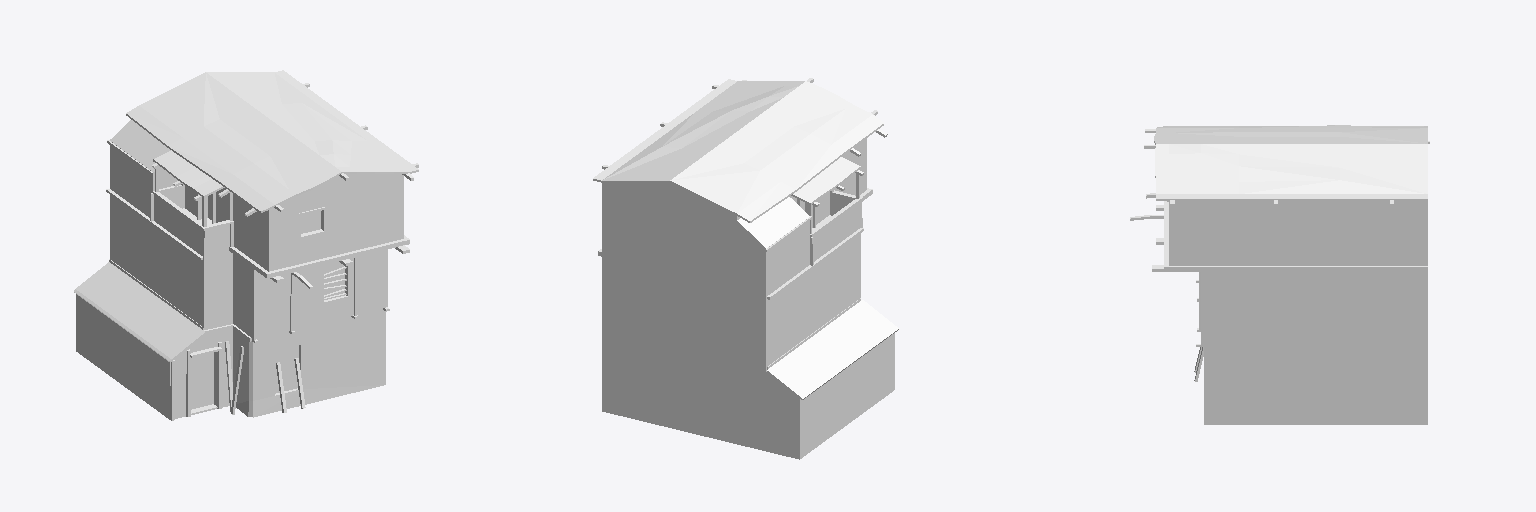
File: BuildingJ.obj
3 views of the same model, side by side, from view 1: azimuth 30°, elevation 25°; view 2: azimuth 150°, elevation 25°; view 3: azimuth 270°, elevation 25° (orthographic).
Visible parts, largest first — view 1: BuildingJ; view 2: BuildingJ; view 3: BuildingJ.
Part boxes in pixels (x1,y1,x2,y2): BuildingJ: (74,70,418,420); BuildingJ: (593,78,898,459); BuildingJ: (1130,125,1429,424).
Bounding box in the file's own units: 333 × 362 × 397.